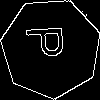P: (26, 23, 73, 60)
